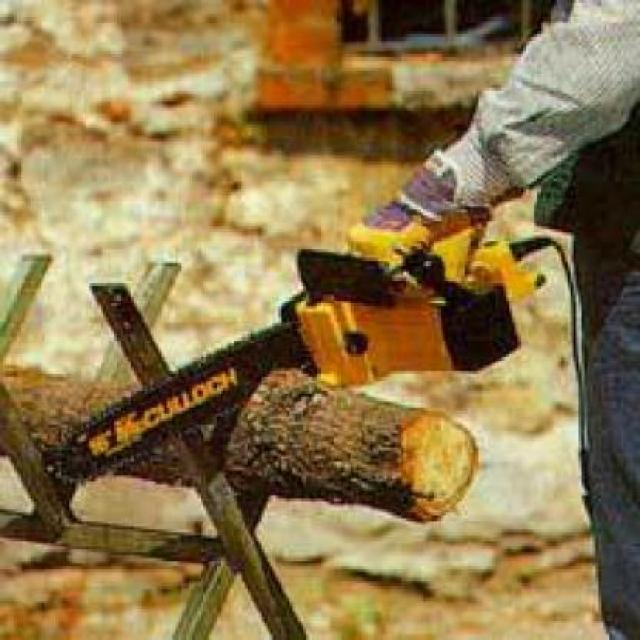Chainsaw: (48, 210, 554, 490)
